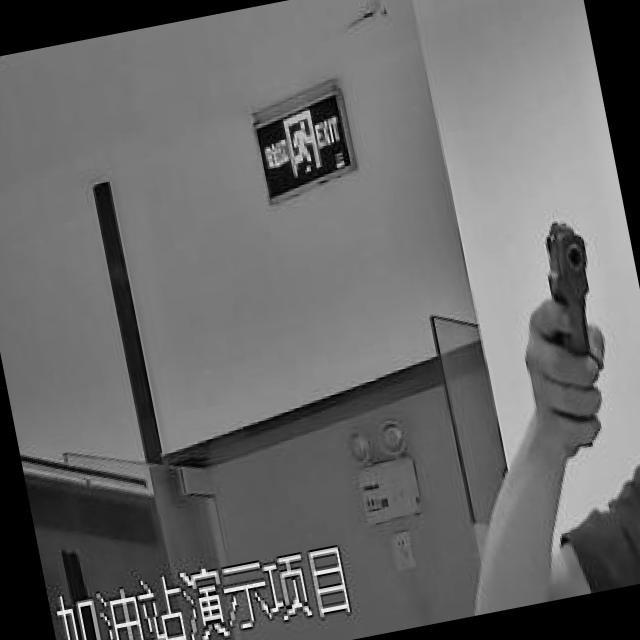Guns: (490, 185, 640, 412)
